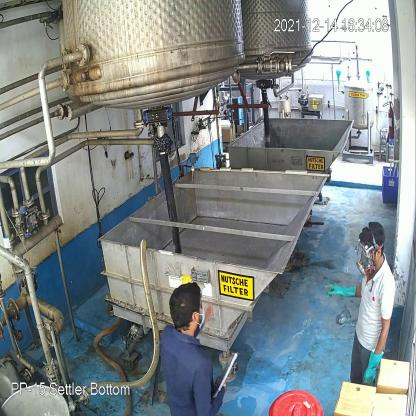goggles: (355, 237, 384, 259)
mask: (356, 250, 379, 277)
